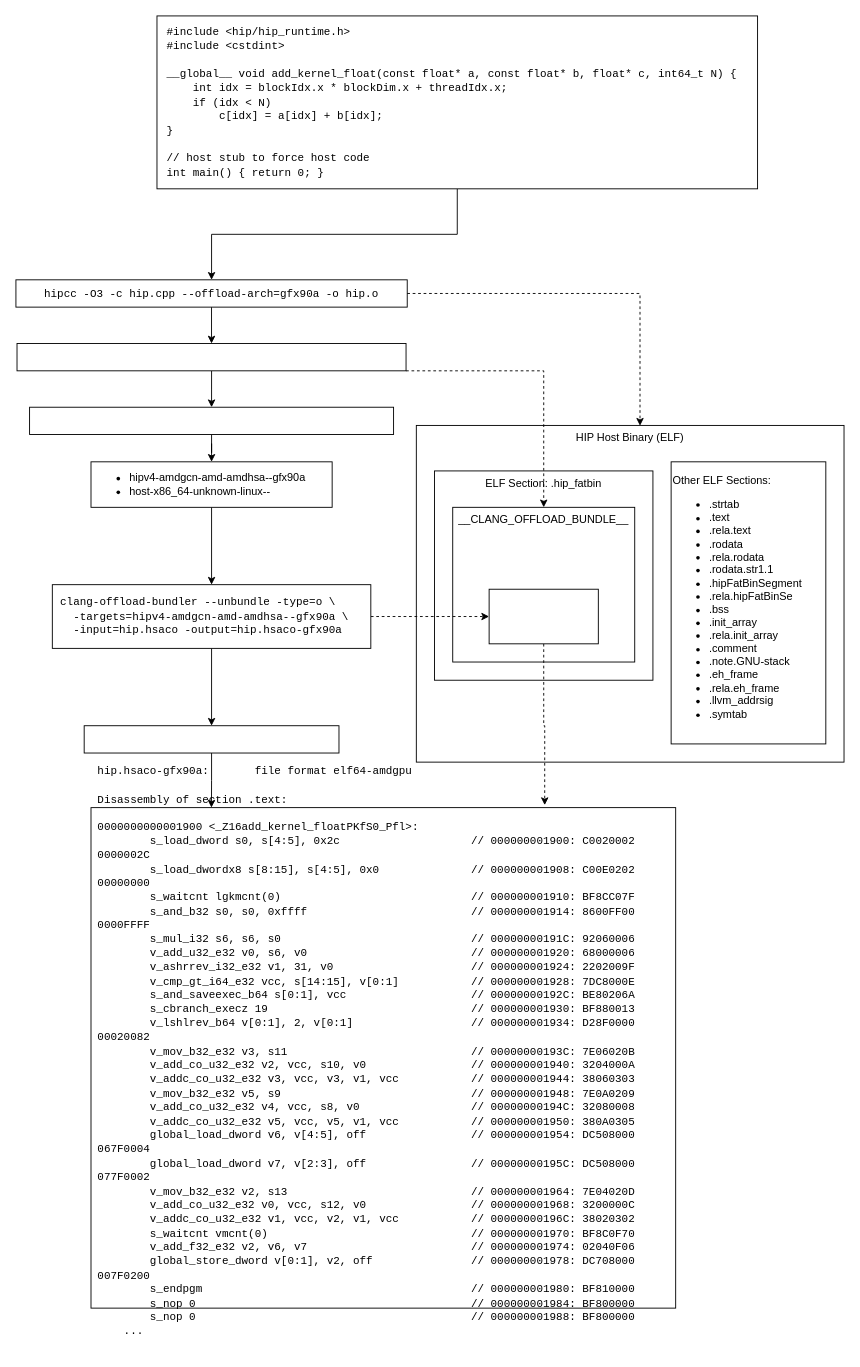
This 860x1367 diagram has some shape labels left out. Each missing label, with the centre of its shape:
"clang-offload-bundler -list -type=o -input=hip.hsaco" belongs at point 211,420.
"gfx90a HSACO ELF" belongs at point 543,616.
"llvm-objcopy --dump-section=.hip_fatbin=hip.hsaco hip.o" belongs at point 211,357.
"llvm-objdump -d hip.hsaco-gfx90a" belongs at point 211,739.
